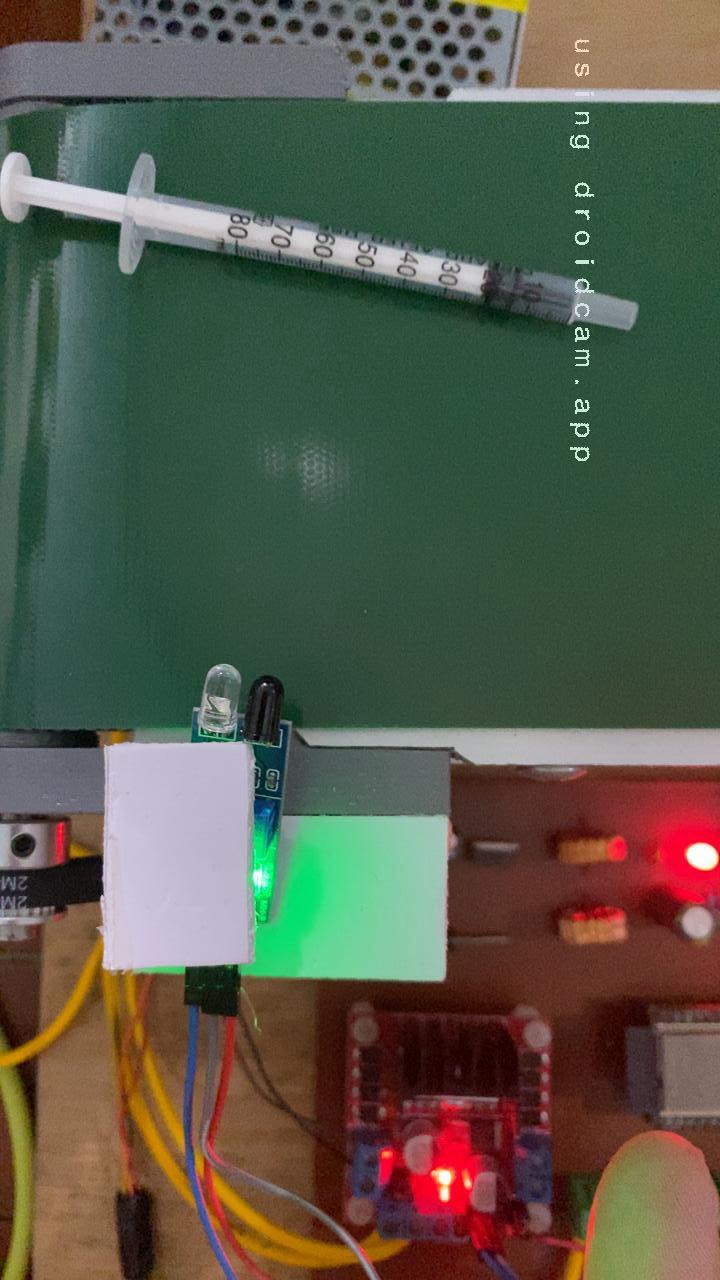syringe: (0, 145, 646, 338)
